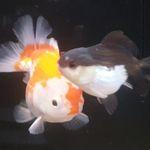goldfish: (54, 36, 146, 100)
